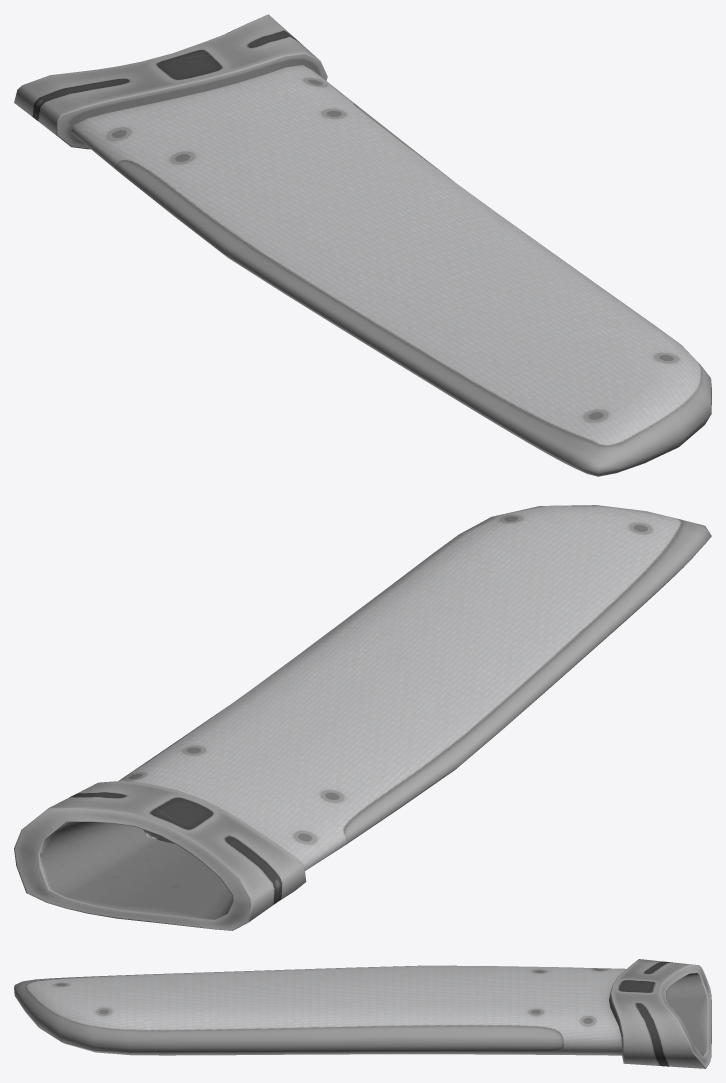
The model's file is MeleeMachete01_2.FBX.
3 views of the same model, one above another, from view 1: azimuth 30°, elevation 25°; view 2: azimuth 150°, elevation 25°; view 3: azimuth 270°, elevation 25° (orthographic). The views are drawn at different scales.
Parts seen in each view (by area): view 1: MeleeMachete01_2; view 2: MeleeMachete01_2; view 3: MeleeMachete01_2.
Boxes of the visible parts, left/top/right/bottom form: MeleeMachete01_2: left=14, top=14, right=711, bottom=476; MeleeMachete01_2: left=14, top=505, right=711, bottom=930; MeleeMachete01_2: left=14, top=959, right=711, bottom=1068.
Size of what is drawn, in the model's own units: 0.2052 by 0.0575 by 0.72.
